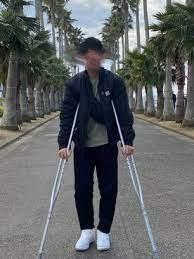crutches: (36, 37, 159, 259)
